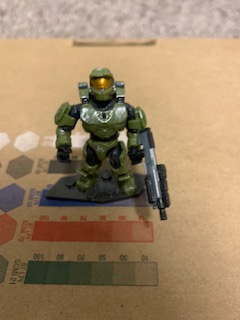chief: (52, 65, 149, 197)
rifle: (132, 127, 174, 223)
spartan: (50, 63, 147, 195)
